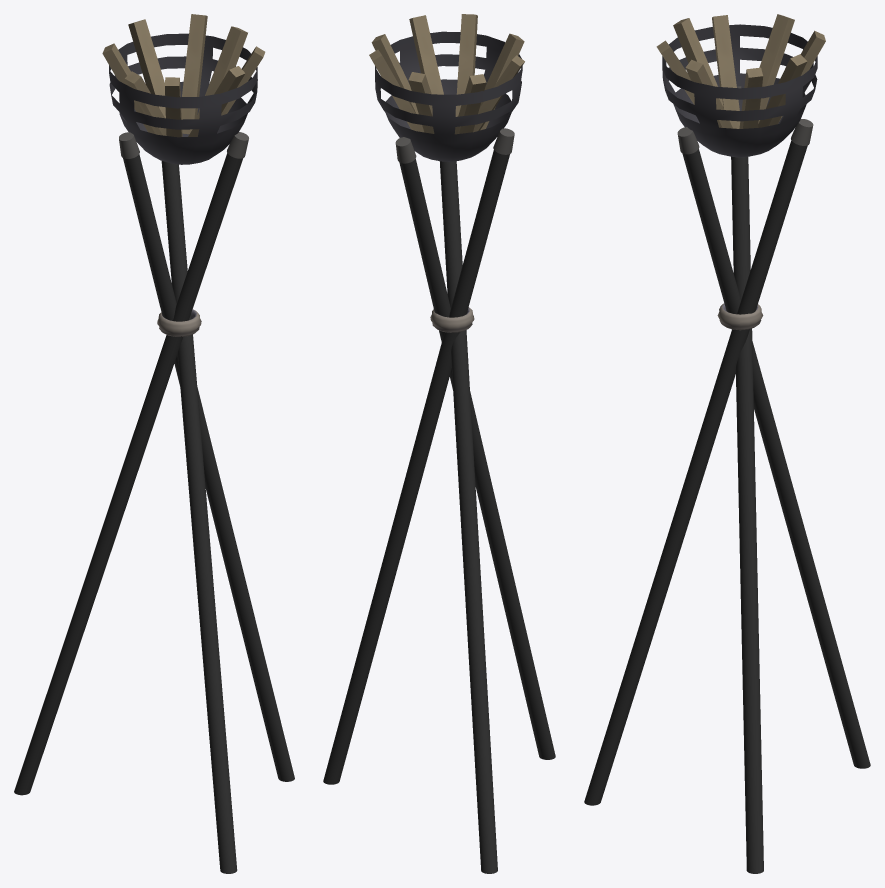
Rendered from kagari.fbx.
3 renders of one model, left to right at view 1: azimuth 30°, elevation 25°; view 2: azimuth 150°, elevation 25°; view 3: azimuth 270°, elevation 25°, orthographic. The views are drawn at different scales.
Parts seen in each view (by area): view 1: pCube10; view 2: pCube10; view 3: pCube10.
Part boxes in pixels (x1,y1,x2,y2): pCube10: (14, 14, 294, 873); pCube10: (323, 14, 555, 873); pCube10: (584, 14, 870, 873).
Size of the model in its own units: 52.08 by 168 by 56.08.
2 materials, 2 textured.
